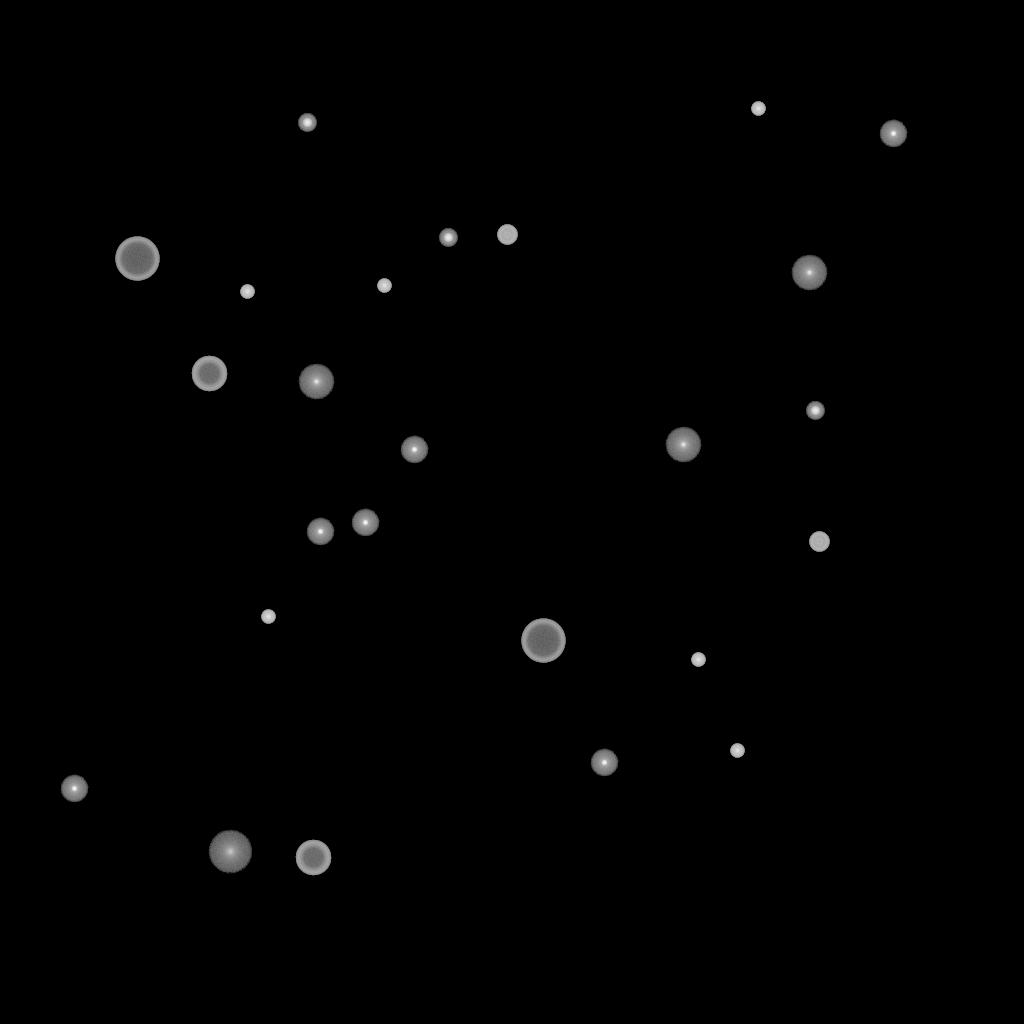depth:-10: (879, 120, 907, 148), (351, 509, 379, 537), (60, 775, 88, 803), (590, 749, 618, 777), (306, 518, 334, 546), (400, 436, 428, 464)
depth:-20: (439, 229, 457, 247), (806, 402, 824, 420), (298, 114, 316, 132)
depth:-30: (691, 653, 705, 667), (751, 102, 765, 116), (377, 279, 391, 293), (730, 744, 744, 758), (240, 285, 254, 299), (261, 610, 275, 624)
depth:-40: (809, 532, 829, 552), (497, 225, 517, 245)
depth:-60: (191, 356, 227, 392), (295, 840, 331, 876)
depth:-70: (521, 619, 565, 663), (115, 237, 159, 281)
depth:0: (665, 427, 701, 463), (298, 364, 334, 400), (791, 255, 827, 291)
depth:10: (208, 830, 252, 874)
